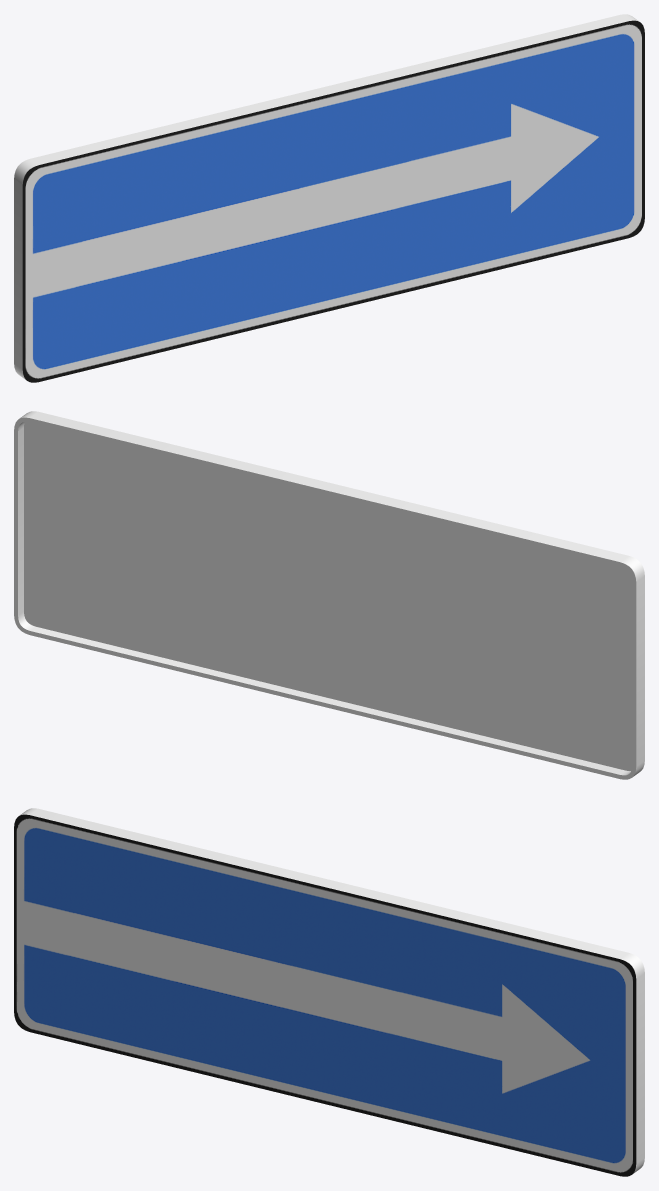
Rendered from Sign Arrows 1.FBX.
3 renders of one model, top to bottom at view 1: azimuth 30°, elevation 25°; view 2: azimuth 150°, elevation 25°; view 3: azimuth 330°, elevation 25°, orthographic.
Parts seen in each view (by area): view 1: Sign Arrows 1; view 2: Sign Arrows 1; view 3: Sign Arrows 1.
Part boxes in pixels (x1,y1,x2,y2): Sign Arrows 1: (14,14,644,382); Sign Arrows 1: (14,411,644,779); Sign Arrows 1: (14,808,644,1176).
Bounding box in the file's own units: 124 × 41.16 × 3.
1 material, 1 textured.
